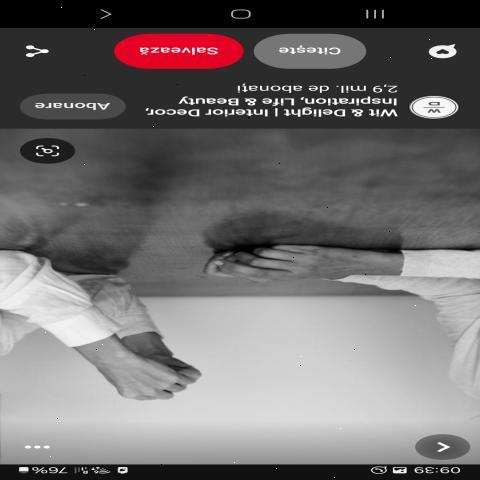Hands: (171, 212, 371, 303), (76, 343, 186, 423)
